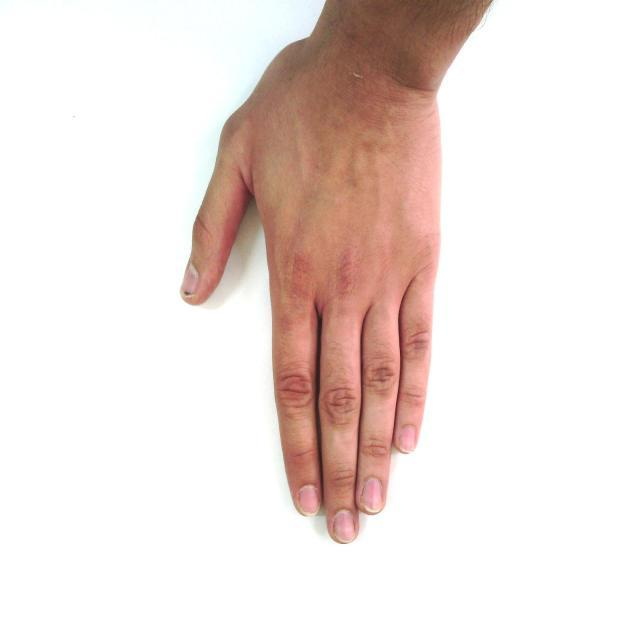Fingernail: (333, 510, 356, 542), (298, 485, 321, 517), (362, 478, 382, 512), (181, 265, 199, 295), (400, 424, 416, 453)
